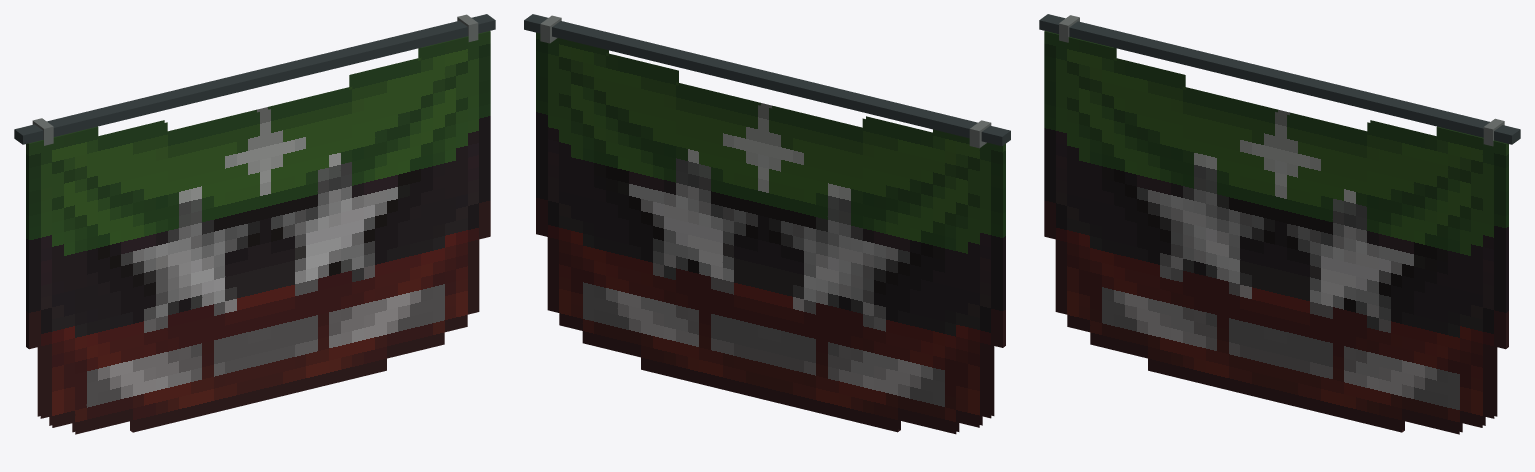
Rendered from CMU3DPrintedAU14WallFlagCLF.glb.
3 renders of one model, left to right at view 1: azimuth 30°, elevation 25°; view 2: azimuth 150°, elevation 25°; view 3: azimuth 330°, elevation 25°, orthographic.
Visible parts, largest first — view 1: hanging printed cloth, upper hanging rod; view 2: hanging printed cloth, upper hanging rod; view 3: hanging printed cloth, upper hanging rod.
Part boxes in pixels (bbox=[...]): hanging printed cloth: bbox=[26, 31, 490, 434]; upper hanging rod: bbox=[14, 14, 495, 144]; hanging printed cloth: bbox=[536, 32, 1005, 434]; upper hanging rod: bbox=[524, 14, 1010, 146]; hanging printed cloth: bbox=[1044, 31, 1508, 434]; upper hanging rod: bbox=[1039, 14, 1520, 144].
Size of the model in its own units: 1.28 by 0.8425 by 0.054.
3 materials, 1 textured.
